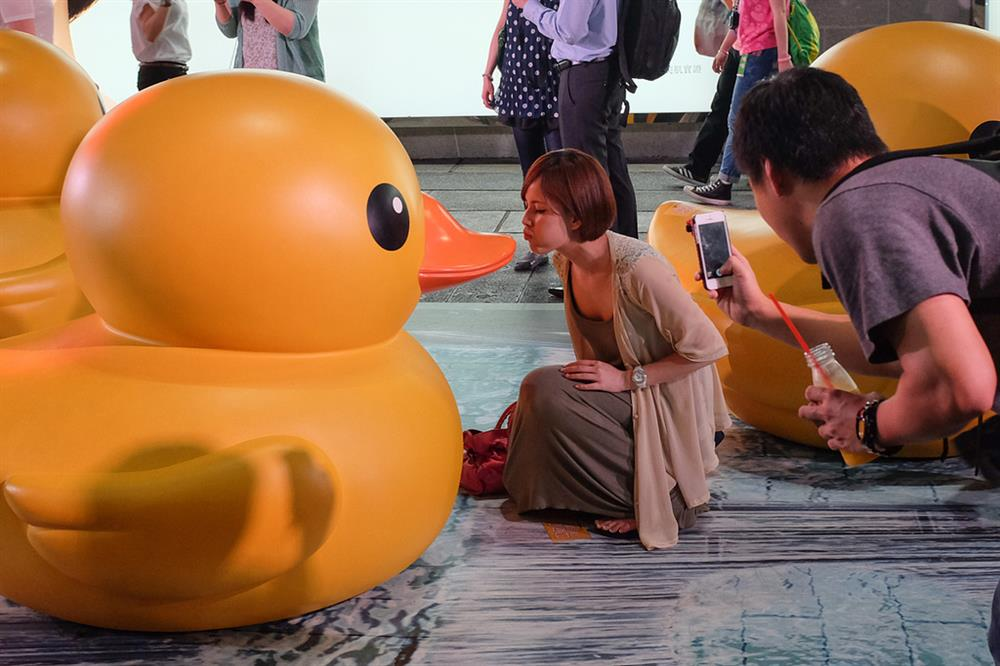rubber_duck: (1, 79, 518, 629)
